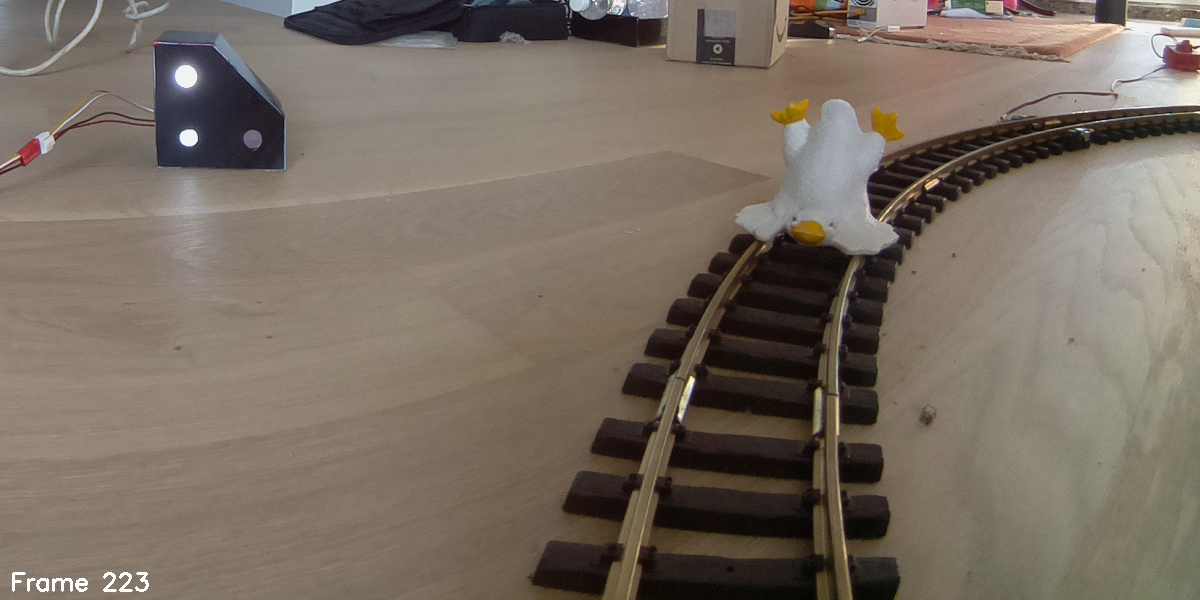Ente: (733, 93, 906, 263)
Fahrt: (154, 31, 284, 166)
